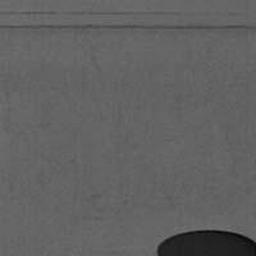Punching: (155, 229, 256, 256)
